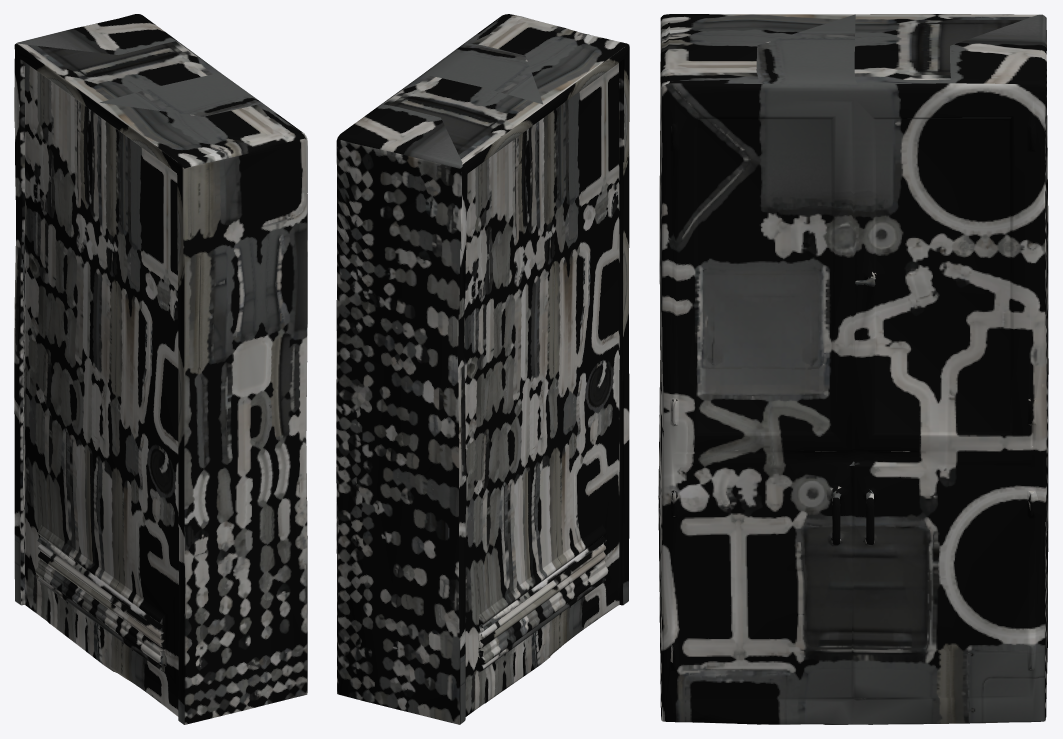
The picture shows the model from 3 angles, left to right: view 1: azimuth 30°, elevation 25°; view 2: azimuth 150°, elevation 25°; view 3: azimuth 270°, elevation 25°; orthographic projection. The views are drawn at different scales.
Visible parts, largest first — view 1: repaired; view 2: repaired; view 3: repaired.
Boxes of the visible parts, bbox=[...] form: repaired: bbox=[14, 14, 307, 724]; repaired: bbox=[336, 14, 629, 724]; repaired: bbox=[658, 14, 1048, 724].
Bounding box in the file's own units: 0.2584 × 0.9994 × 0.5481.
